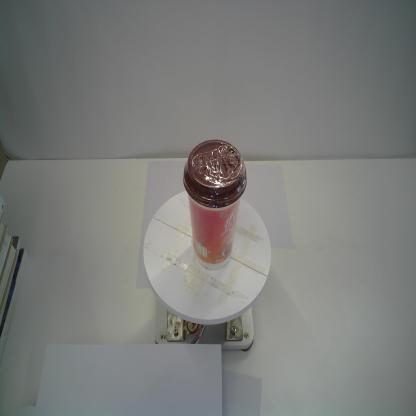Instant Drink: (182, 138, 249, 272)
